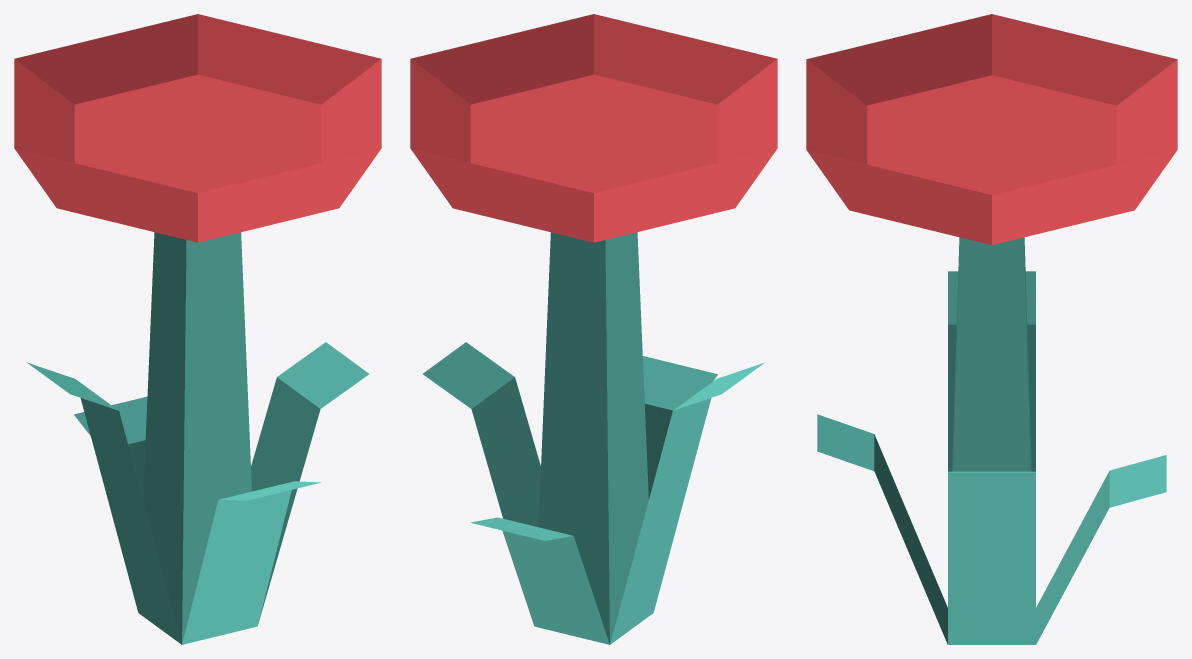
The model's file is flower_red3.obj.
The picture shows the model from 3 angles, left to right: view 1: azimuth 30°, elevation 25°; view 2: azimuth 150°, elevation 25°; view 3: azimuth 270°, elevation 25°; orthographic projection.
Visible parts, largest first — view 1: flower_red3; view 2: flower_red3; view 3: flower_red3.
Boxes of the visible parts, x1,y1,x2,y2 form: flower_red3: (14,14,381,644); flower_red3: (410,14,777,644); flower_red3: (806,14,1177,644).
Bounding box in the file's own units: 1.51 × 2.03 × 1.31.
